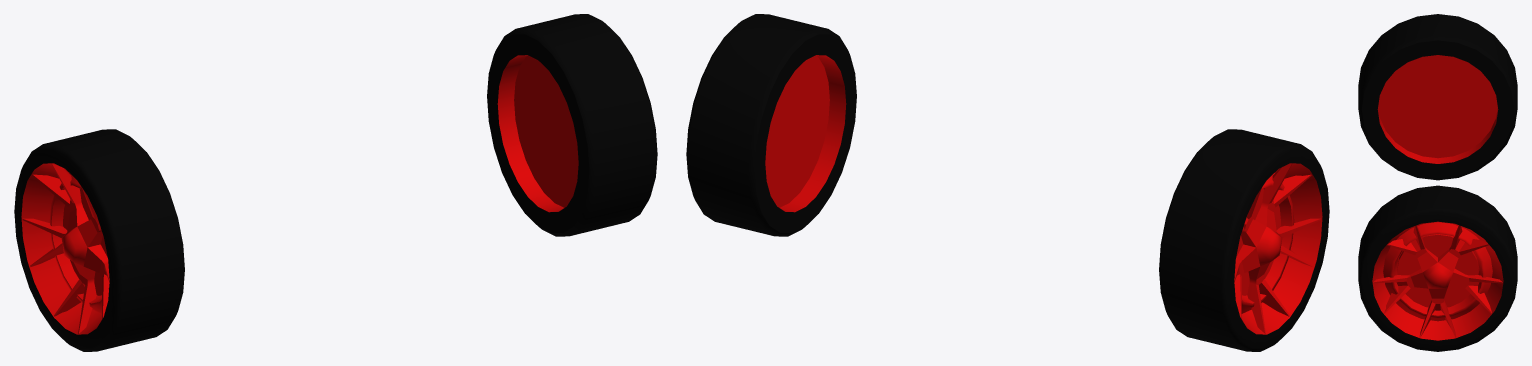
The model's file is WheelsFront_1.fbx.
3 renders of one model, left to right at view 1: azimuth 30°, elevation 25°; view 2: azimuth 150°, elevation 25°; view 3: azimuth 270°, elevation 25°, orthographic. The views are drawn at different scales.
Visible parts, largest first — view 1: WheelsFront; view 2: WheelsFront; view 3: WheelsFront.
Boxes of the visible parts, x1=… form: WheelsFront: x1=14, y1=14, x2=657, y2=351; WheelsFront: x1=686, y1=14, x2=1329, y2=351; WheelsFront: x1=1358, y1=14, x2=1517, y2=351.
Size of the model in its own units: 2.08 by 0.7124 by 0.7124.
